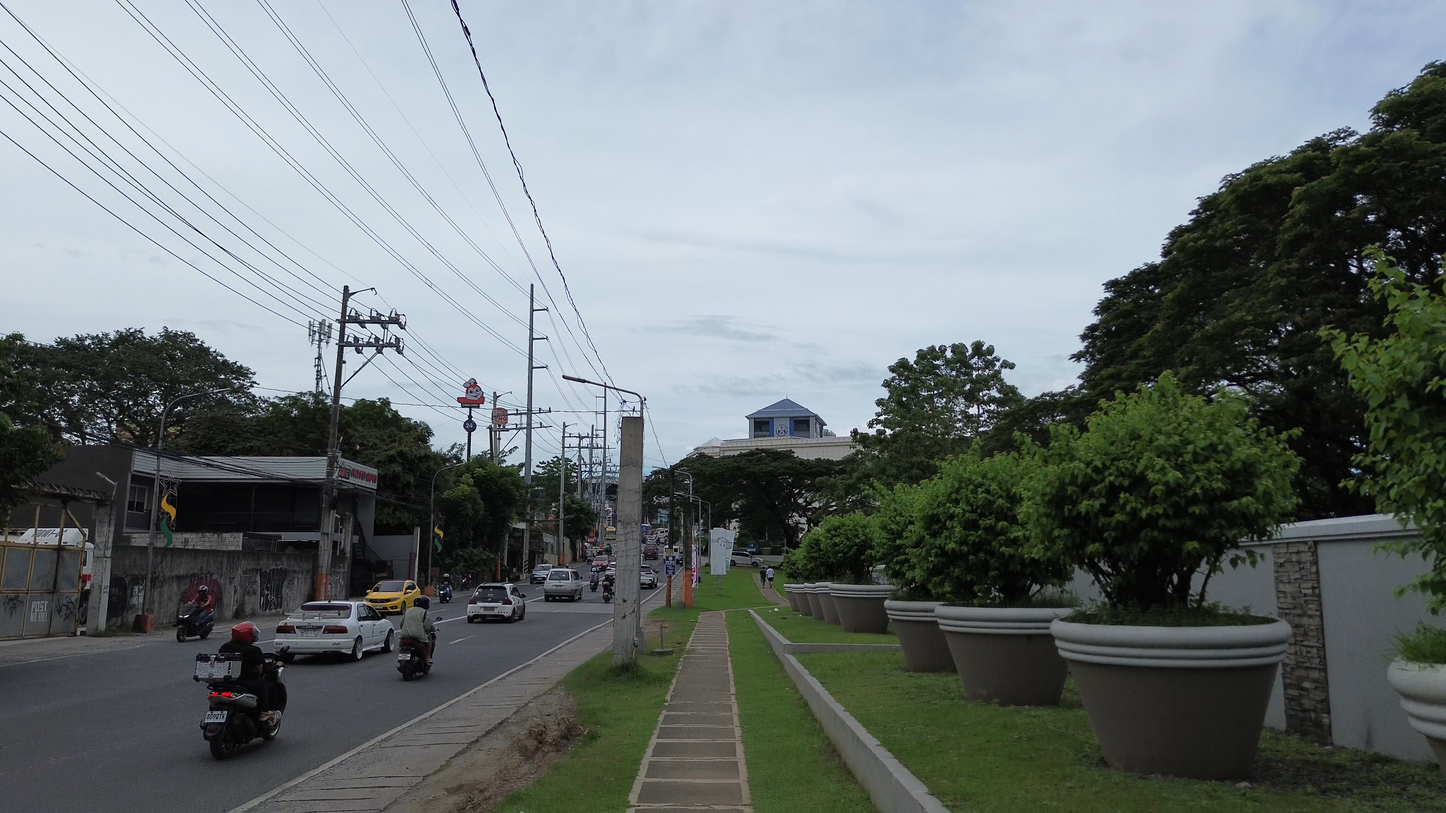car: (273, 601, 397, 662), (467, 583, 525, 623), (365, 580, 422, 613), (592, 555, 609, 569), (604, 560, 615, 577)
motorcycle: (175, 604, 214, 642), (438, 584, 453, 603), (602, 579, 614, 602), (590, 570, 599, 591)
vehicle: (194, 653, 286, 759), (397, 638, 431, 681), (543, 567, 582, 601), (731, 551, 764, 567), (529, 564, 554, 584), (639, 565, 657, 589), (437, 584, 453, 603), (602, 578, 614, 603), (642, 542, 659, 559), (592, 554, 609, 571), (589, 568, 600, 591), (605, 525, 616, 542), (604, 560, 615, 577)
